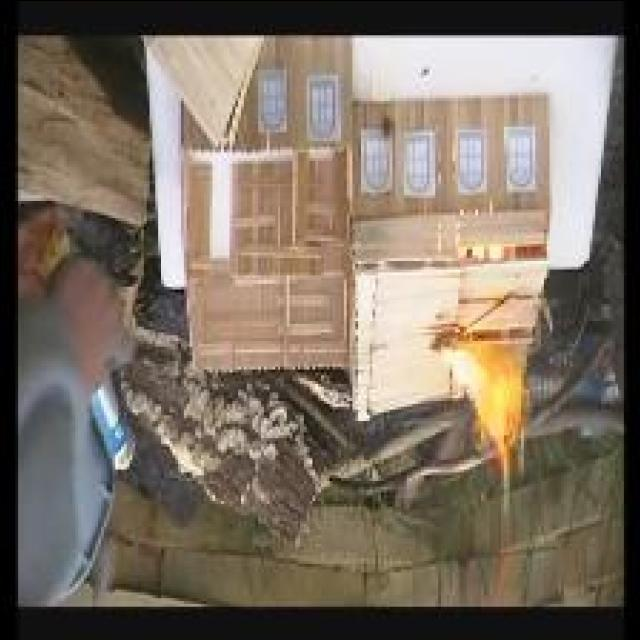Fire: (440, 346, 523, 472)
